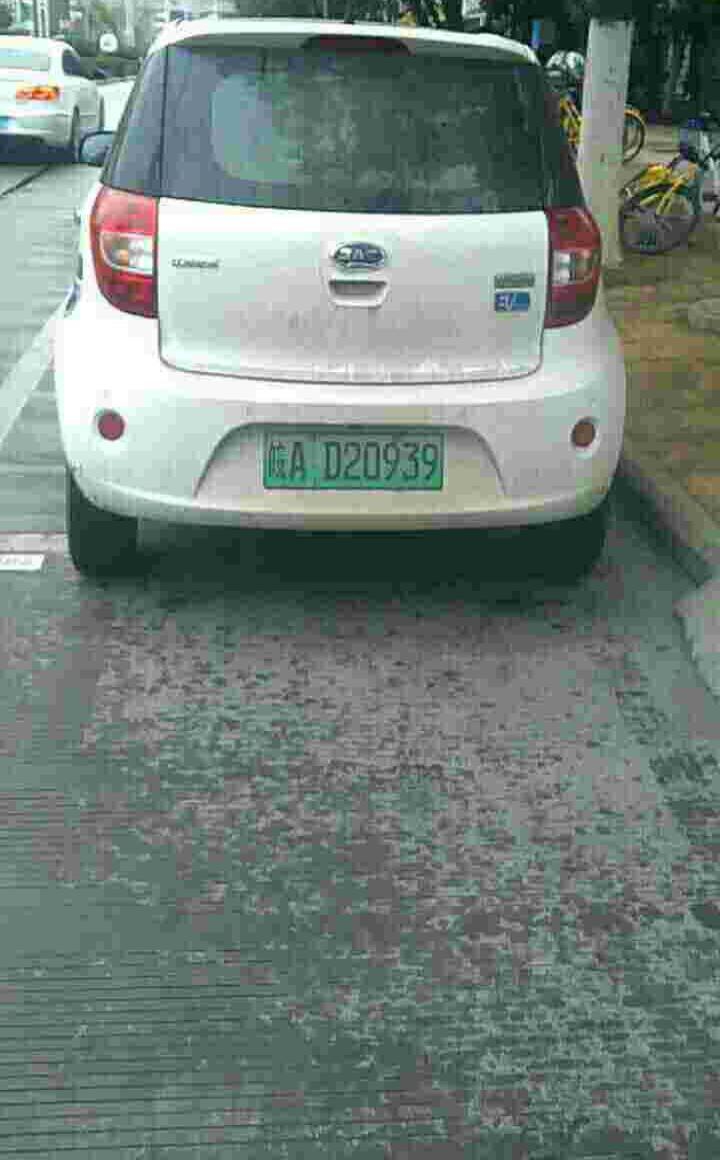car: (257, 433, 445, 492)
